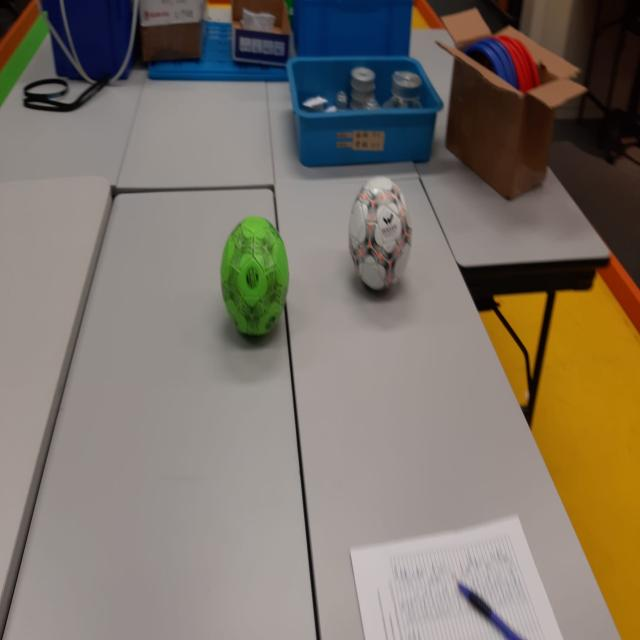ball: (220, 216, 290, 342), (350, 173, 413, 297)
